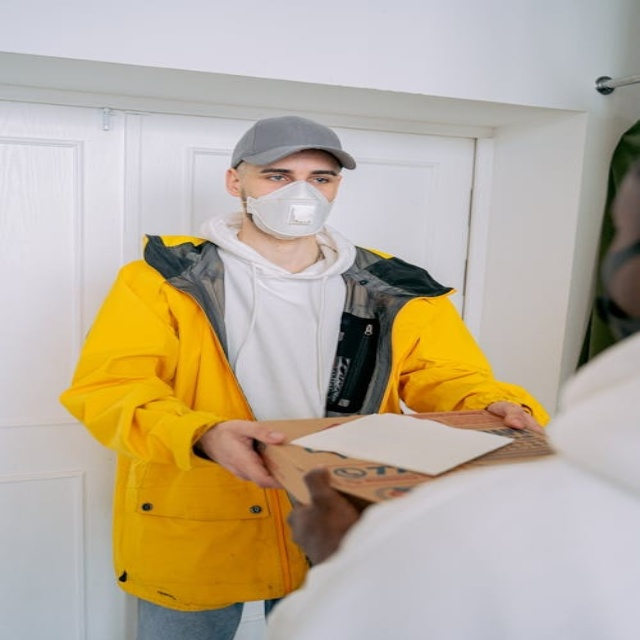Mascara: (238, 176, 338, 240)
Sin_gafas: (243, 162, 337, 186)
Sin_guantes: (284, 466, 374, 567), (196, 410, 287, 491), (475, 391, 545, 436)
